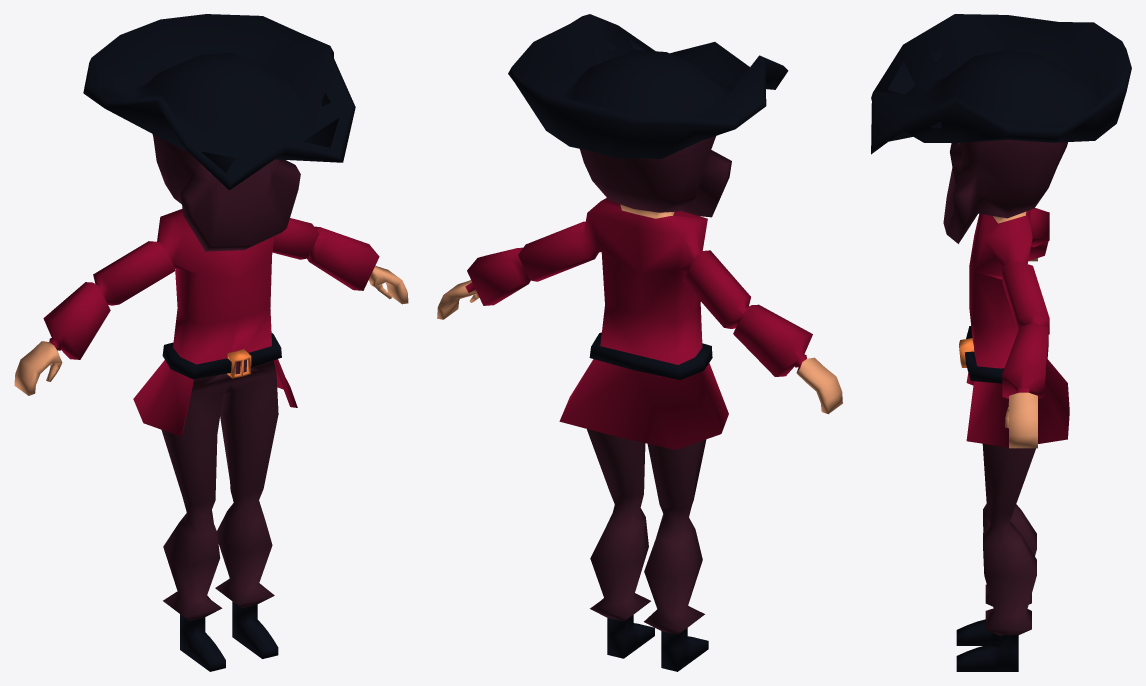
File: Pirate.fbx
3 views of the same model, side by side, from view 1: azimuth 30°, elevation 25°; view 2: azimuth 150°, elevation 25°; view 3: azimuth 270°, elevation 25° (orthographic). The views are drawn at different scales.
Visible parts, largest first — view 1: Cube; view 2: Cube; view 3: Cube.
Part boxes in pixels (box(x1,y1,x2,y2)): Cube: box(14, 14, 408, 671); Cube: box(437, 14, 842, 671); Cube: box(871, 14, 1131, 671).
Bounding box in the file's own units: 159 × 235 × 92.64.
